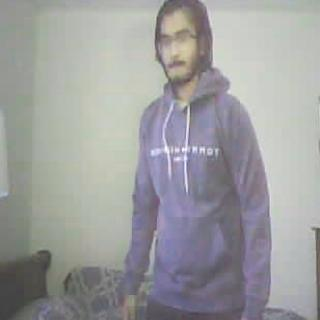Blue Hoodie: (126, 82, 272, 303)
Navy Sweatpants: (148, 310, 237, 320)
